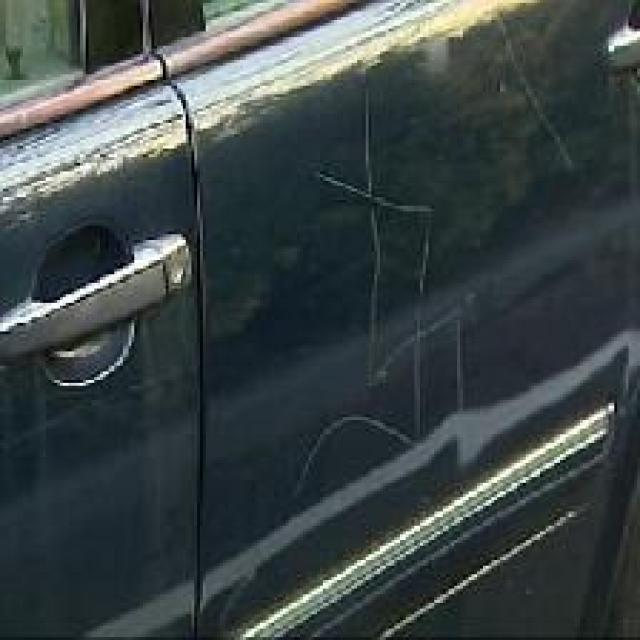damaged: (223, 54, 506, 606), (488, 6, 588, 180)
